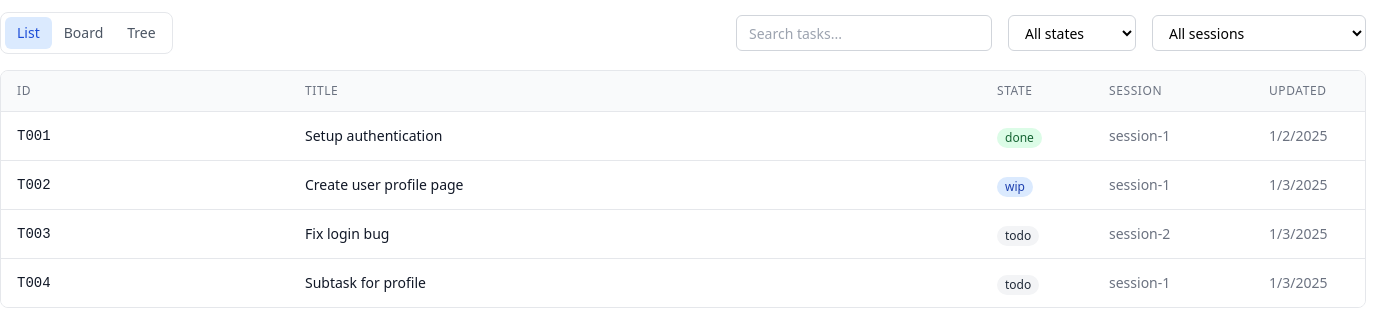
Test: TasksView › Filters › filters tasks by session
This screenshot has width=1378, height=325.
Select "Bug Fixes" in the dropdown named "session" at (1259, 33), box [1152, 15, 1366, 51]
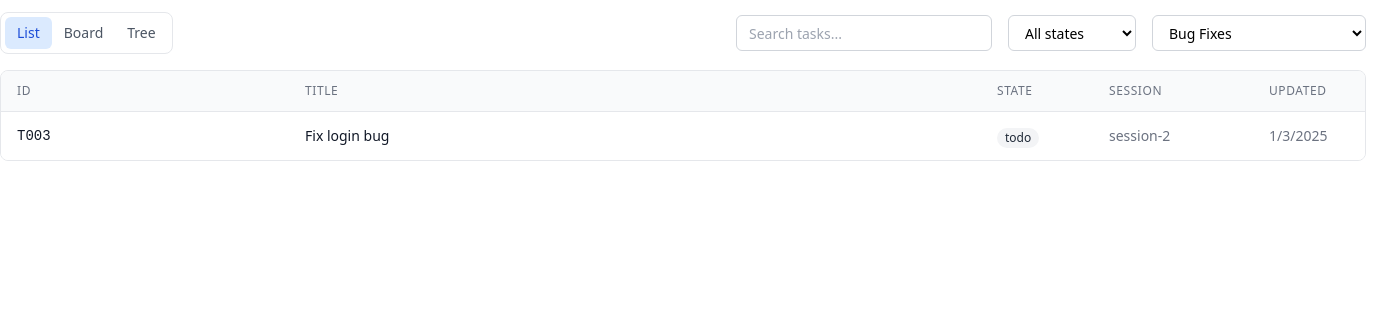
expect the text "T003" is shown: met, box [17, 128, 51, 144]
expect the text "T001" is gone: met
